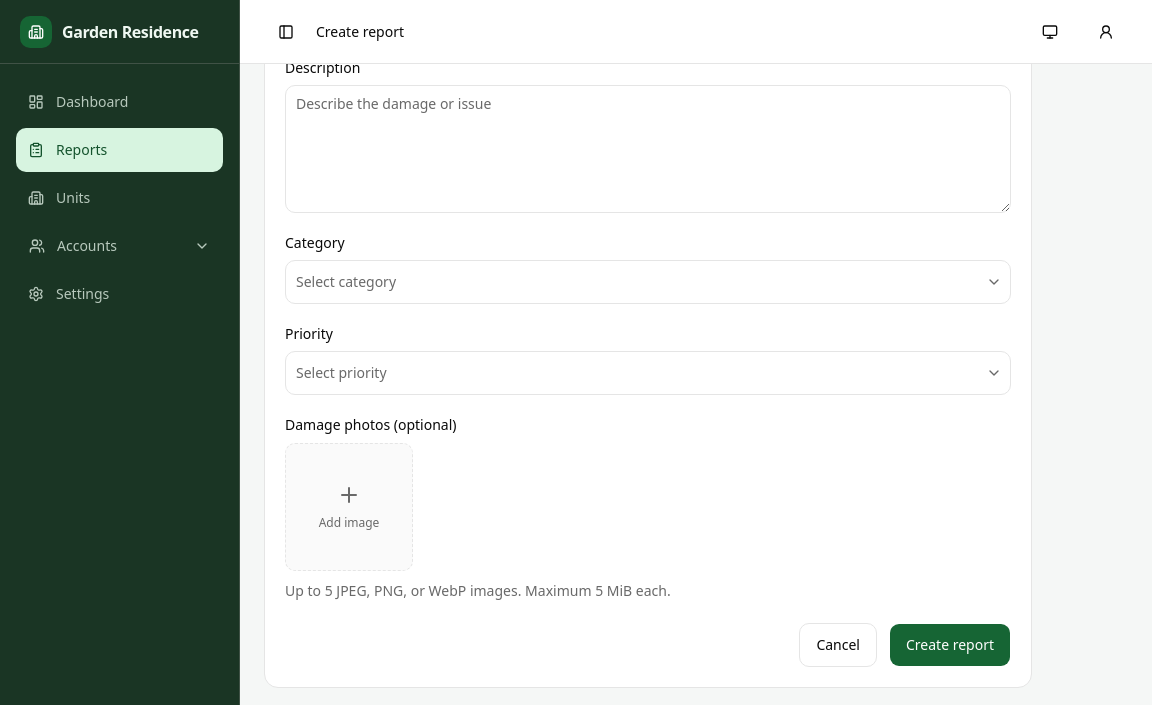
it: shows explicit fields and focuses the first invalid field without writes
(page scrolled)
Click the button "Create report" at (950,644), box [889,622,1011,666]
(page scrolled)
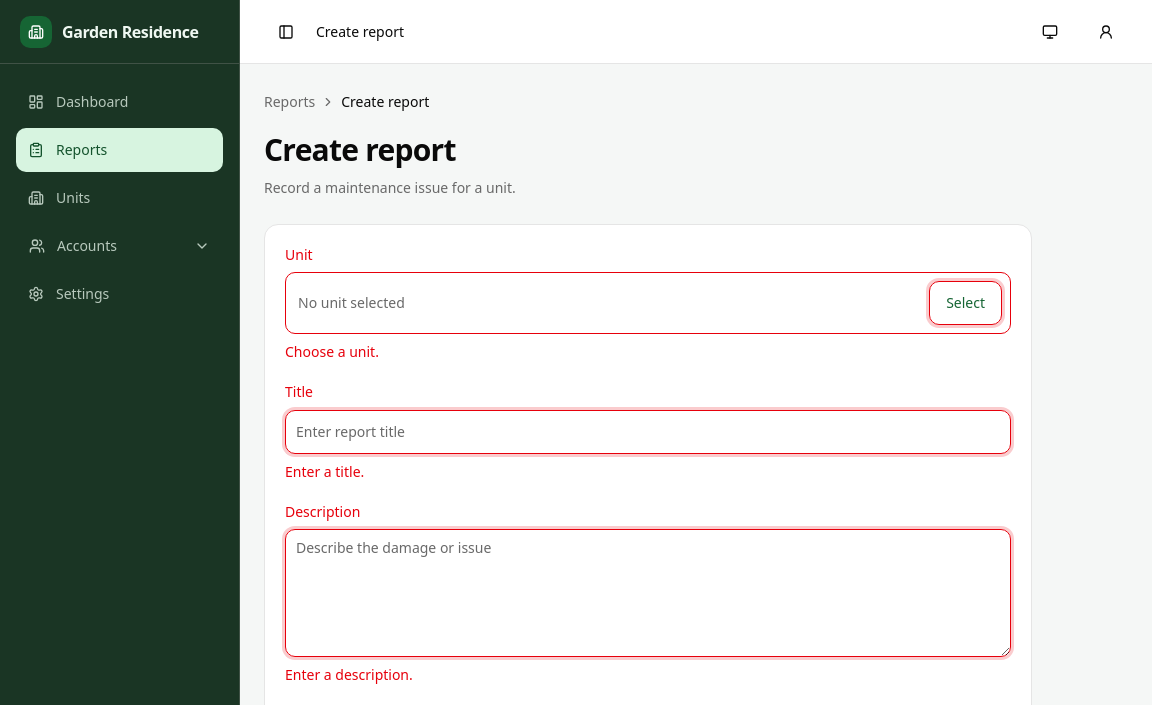
Result: the text "Choose a unit." is shown at [285,342,379,361]
